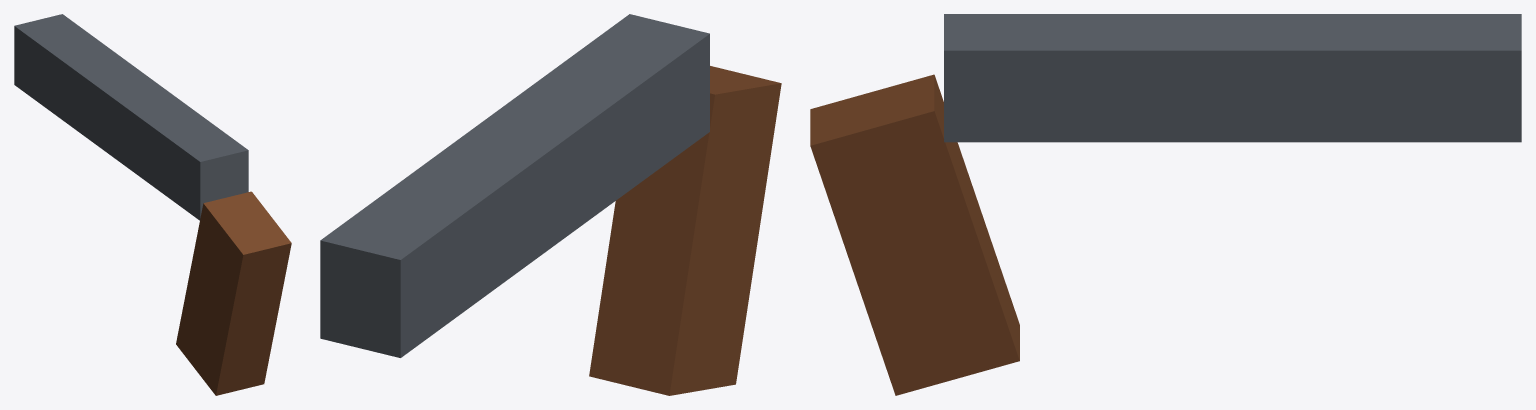
Rendered from gag_gun.glb.
The picture shows the model from 3 angles, left to right: view 1: azimuth 30°, elevation 25°; view 2: azimuth 150°, elevation 25°; view 3: azimuth 270°, elevation 25°; orthographic projection. The views are drawn at different scales.
Parts seen in each view (by area): view 1: gag_gun; view 2: gag_gun; view 3: gag_gun.
Part boxes in pixels (x1=…): gag_gun: x1=14, y1=14, x2=291, y2=395; gag_gun: x1=320, y1=14, x2=781, y2=395; gag_gun: x1=810, y1=14, x2=1521, y2=395.
Bounding box in the file's own units: 0.03 × 0.1319 × 0.2463.
